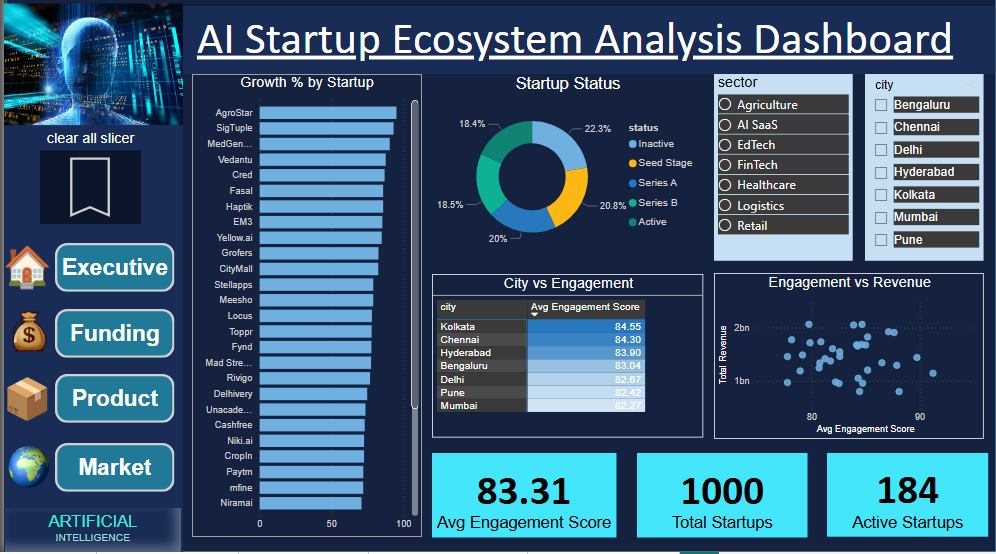

This screenshot's page, from the dashboard's own definition file:
{"tool":"powerbi","page":{"name":"Market Engegement","canvas":[1280,720],"ordinal":4},"visuals":[{"type":"shape","box":[2.4,0,1277.6,720.1],"z":0},{"type":"actionButton","box":[65.7,321.4,154.3,62.9],"z":0,"group":"g6"},{"type":"actionButton","box":[65.7,491.4,154.3,62.9],"z":0,"group":"g3"},{"type":"group","id":"g1","title":"Group 4","box":[5.7,571.4,214.3,77.1],"z":0,"group":"g5"},{"type":"actionButton","box":[65.7,578.5,154.3,62.9],"z":0,"group":"g1"},{"type":"textbox","box":[194.6,16.1,1083.9,87.5],"z":1000},{"type":"image","box":[0,321.4,60,62.9],"z":1000,"group":"g6"},{"type":"image","box":[0,485.7,60,74.3],"z":1000,"group":"g3"},{"type":"image","box":[5.7,571.4,54.3,77.1],"z":1000,"group":"g1"},{"type":"shape","box":[0,15.5,231,705.2],"z":2000},{"type":"image","box":[0,5.2,231,170.7],"z":3000},{"type":"card","fields":{"Values":["measure.Avg Engagement Score"]},"box":[552.4,591.7,237.8,109.1],"z":4000},{"type":"donutChart","title":"Startup Status","fields":{"Y":["measure.Total Startups"],"Category":["AI_Startups.status"]},"box":[552.4,103.7,350.4,241.3],"z":5000},{"type":"clusteredBarChart","title":"Growth % by Startup","fields":{"Category":["AI_Startups.startup_name"],"Y":["measure.Avg Growth %"]},"box":[243.1,103.7,296.8,597.1],"z":6000},{"type":"scatterChart","title":"Engagement vs Revenue","fields":{"X":["measure.Avg Engagement Score"],"Y":["measure.Total Revenue"],"Category":["AI_Startups.startup_name"]},"box":[915.5,360.3,348.3,213.8],"z":7000},{"type":"listSlicer","fields":{"Values":["AI_Startups.sector"]},"box":[915.5,103.4,179.3,241.4],"z":8000},{"type":"pivotTable","title":"City vs Engagement","fields":{"Rows":["AI_Startups.city"],"Values":["measure.Avg Engagement Score"]},"box":[552.4,361.1,350.4,210.9],"z":9000},{"type":"slicer","fields":{"Values":["AI_Startups.city"]},"box":[1110.3,103.4,153.4,241.4],"z":10000},{"type":"card","fields":{"Values":["measure.Total Startups"]},"box":[817,591.7,219.9,109.1],"z":11000},{"type":"card","fields":{"Values":["measure.Active Startups"]},"box":[1061.7,591.7,208.3,108.3],"z":12000},{"type":"group","id":"g2","title":"Group 6","box":[0,321.4,220,327.1],"z":13000},{"type":"group","id":"g3","title":"Group 1","box":[0,485.7,220,74.3],"z":13000,"group":"g2"},{"type":"group","id":"g4","title":"Group 2","box":[0,390,220,90],"z":14000,"group":"g2"},{"type":"textbox","box":[1,663.3,226.7,56.7],"z":14000},{"type":"actionButton","box":[65.7,407.1,154.3,62.9],"z":14004,"group":"g4"},{"type":"image","box":[0,390,65.7,90],"z":14010,"group":"g4"},{"type":"actionButton","title":"clear all slicer","box":[46.5,175.2,130.5,121.6],"z":15000},{"type":"group","id":"g5","title":"Group 3","box":[5.7,571.4,214.3,77.1],"z":15000,"group":"g2"},{"type":"group","id":"g6","title":"Group 5","box":[0,321.4,220,62.9],"z":16002,"group":"g2"}]}

Visuals, with their boxes in screenshot pixels (x1, y1, x2, y2), scaled from the page's 1280x720 canvas onto the 996x554 screenshot:
shape: 2 0 995 553
actionButton: 51 247 171 296
actionButton: 51 378 171 427
"Group 4" group: 4 440 171 499
actionButton: 51 445 171 494
textbox: 151 12 995 80
image: 0 247 47 296
image: 0 374 47 431
image: 4 440 47 499
shape: 0 12 180 553
image: 0 4 180 135
card - measure.Avg Engagement Score: 430 455 615 539
"Startup Status" donutChart: 430 80 702 265
"Growth % by Startup" clusteredBarChart: 189 80 420 539
"Engagement vs Revenue" scatterChart: 712 277 983 442
listSlicer - AI_Startups.sector: 712 80 852 265
"City vs Engagement" pivotTable: 430 278 702 440
slicer - AI_Startups.city: 864 80 983 265
card - measure.Total Startups: 636 455 807 539
card - measure.Active Startups: 826 455 988 539
"Group 6" group: 0 247 171 499
"Group 1" group: 0 374 171 431
"Group 2" group: 0 300 171 369
textbox: 1 510 177 553
actionButton: 51 313 171 362
image: 0 300 51 369
"clear all slicer" actionButton: 36 135 138 228
"Group 3" group: 4 440 171 499
"Group 5" group: 0 247 171 296
